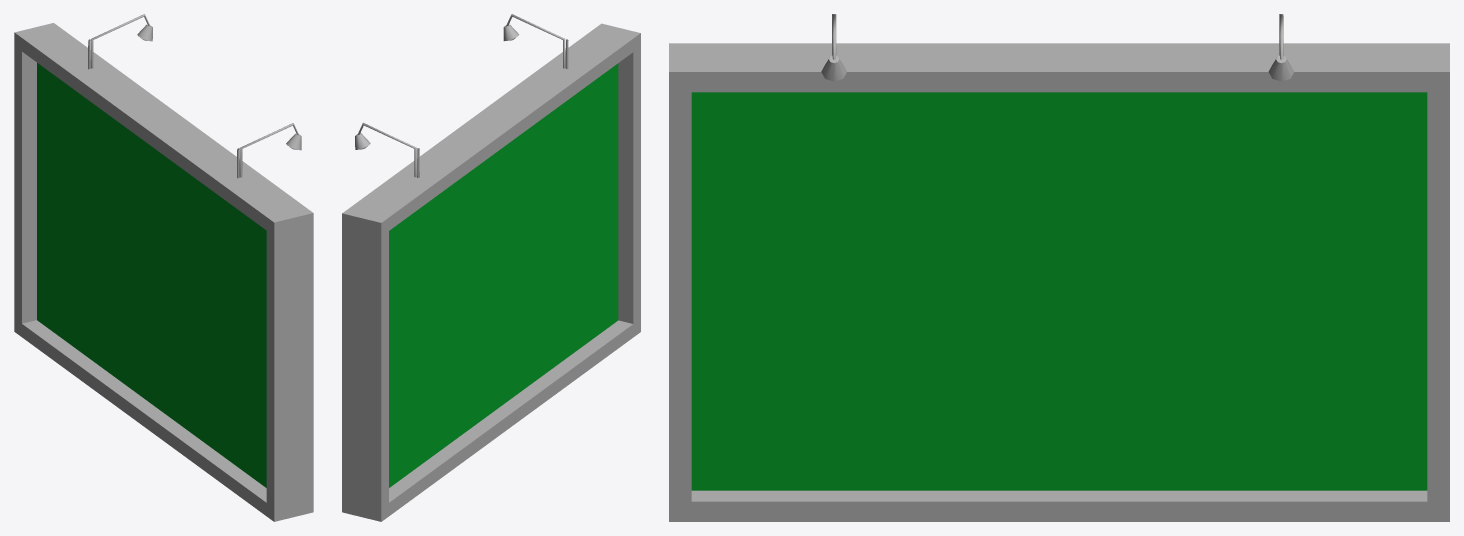
File: billboard2.fbx
The picture shows the model from 3 angles, left to right: view 1: azimuth 30°, elevation 25°; view 2: azimuth 150°, elevation 25°; view 3: azimuth 270°, elevation 25°; orthographic projection. The views are drawn at different scales.
Visible parts, largest first — view 1: Box002; view 2: Box002; view 3: Box002.
Boxes of the visible parts, box(x1,y1,x2,y2) form: Box002: box(14, 14, 313, 521); Box002: box(342, 14, 640, 521); Box002: box(669, 14, 1449, 521).
Bounding box in the file's own units: 60.03 × 238 × 329.
